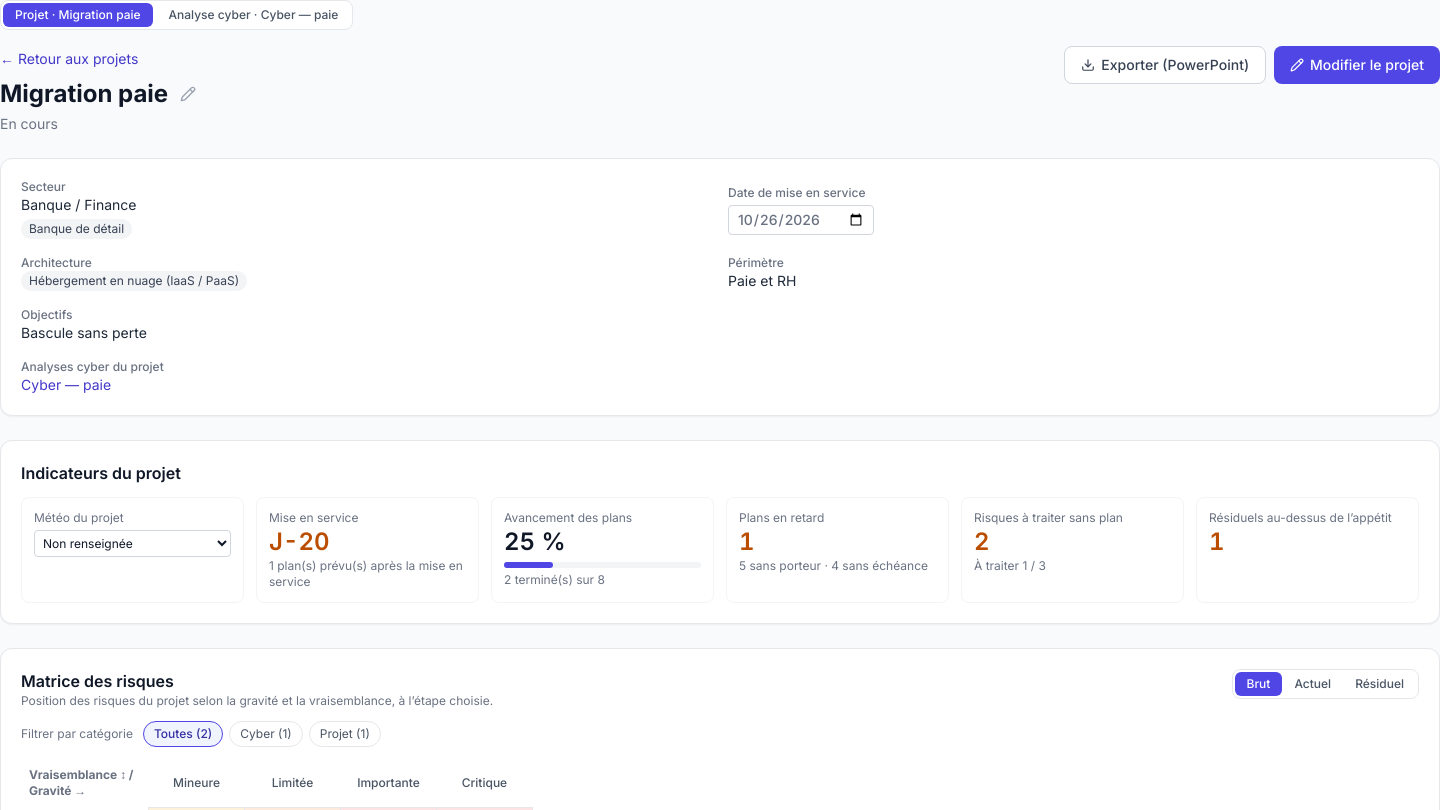
Test: ProjetPresentation — mise en page et actions › titre du projet modifiable (crayon), enregistré sur l’analyse projet
This screenshot has width=1440, height=810.
Click the button named "Renommer le projet".
click(188, 94)  # box [176, 82, 200, 106]
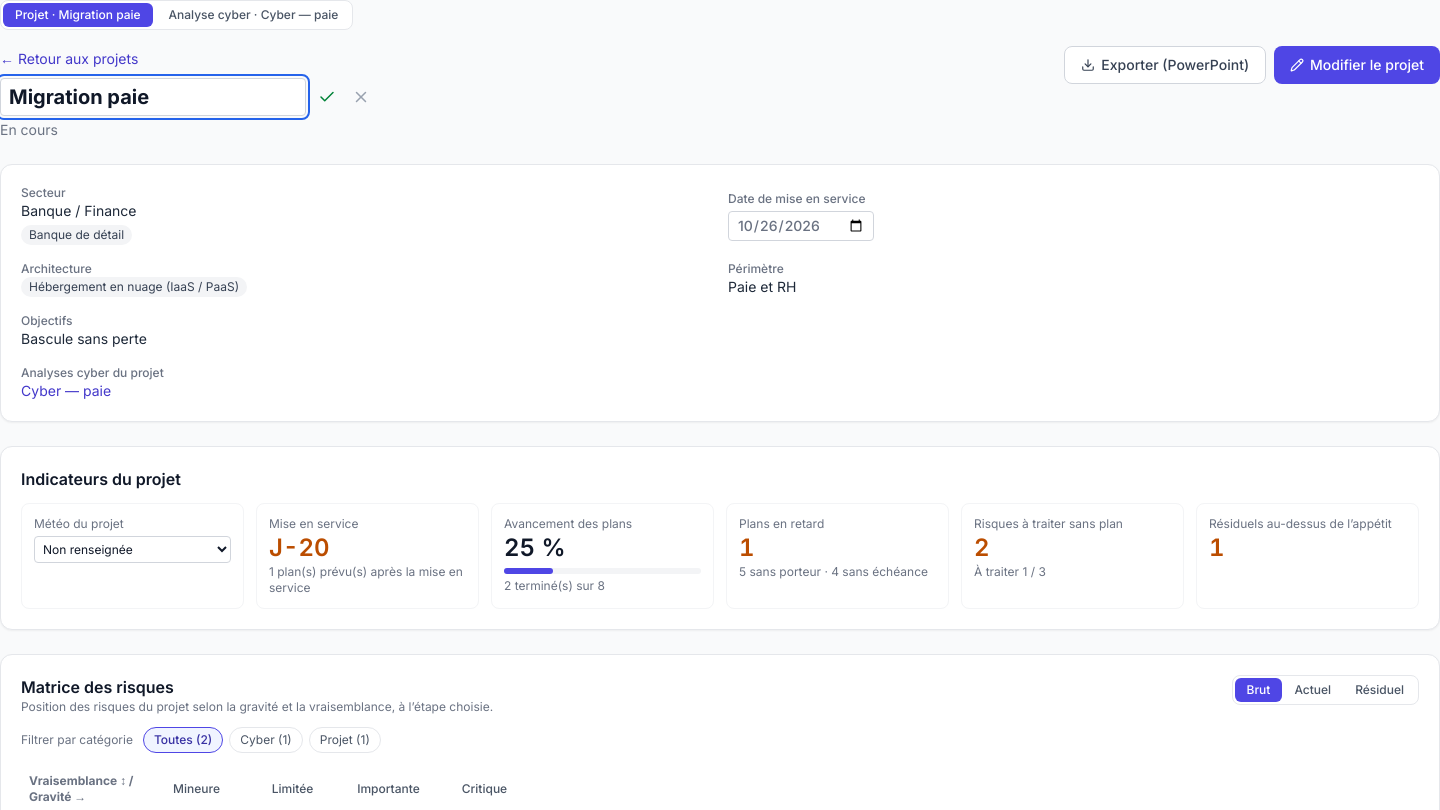
Replace the text in the field named "Nom du projet" with "Migration de la paie 2027" at (153,97), box [0, 78, 306, 116]
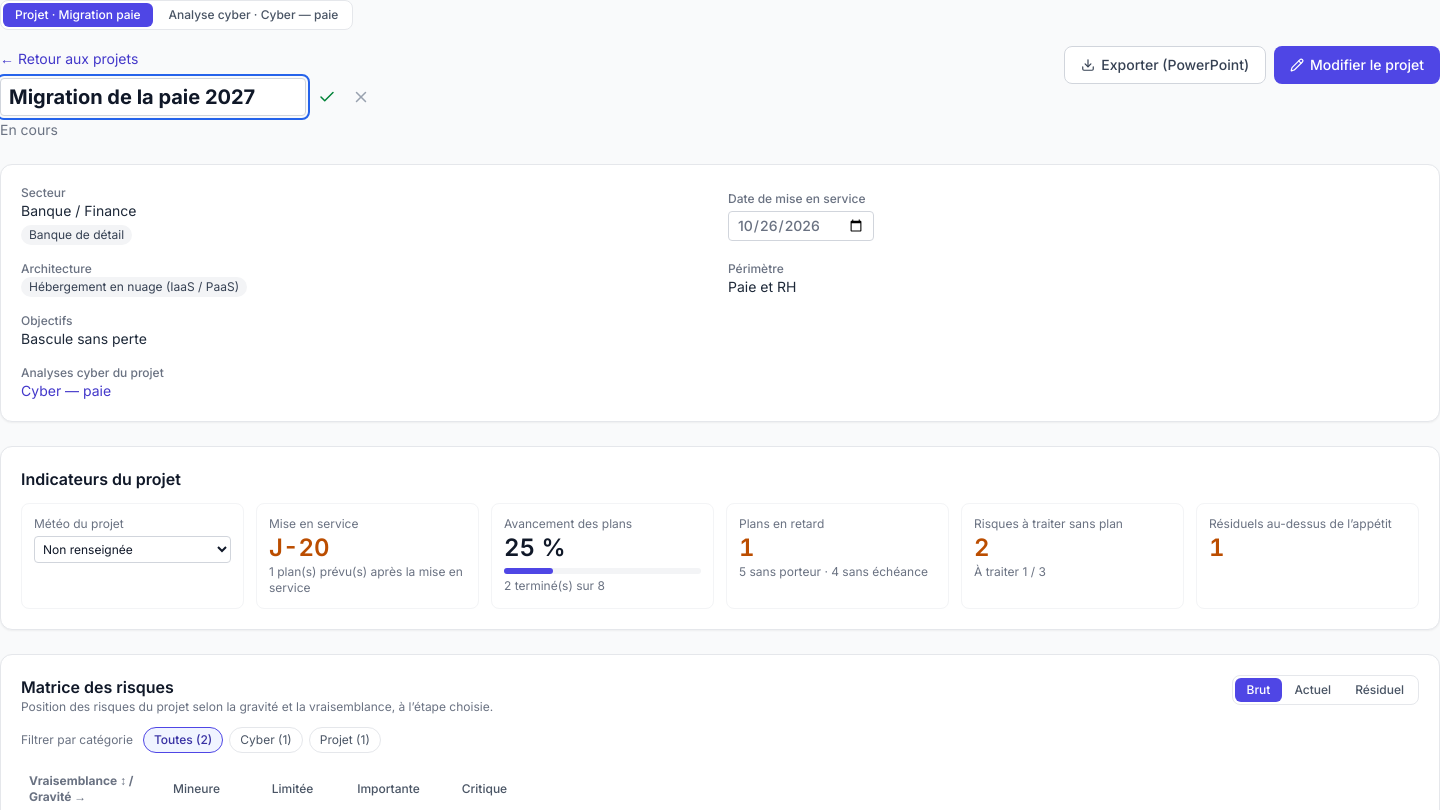
Click the button named "Enregistrer le nom".
click(327, 97)  # box [314, 84, 340, 110]
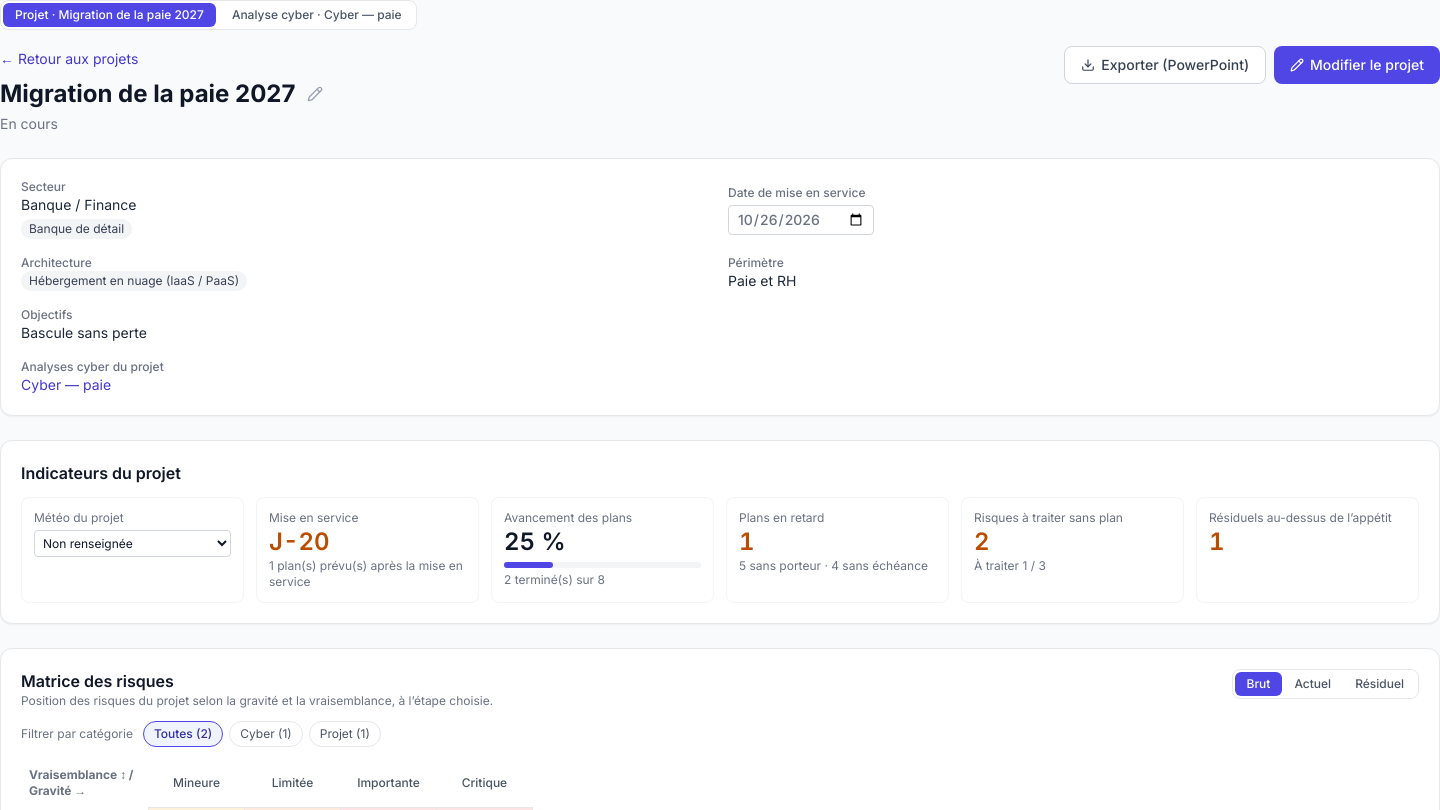
Expected: the heading "Migration de la paie 2027" is shown, [0, 78, 327, 110]
